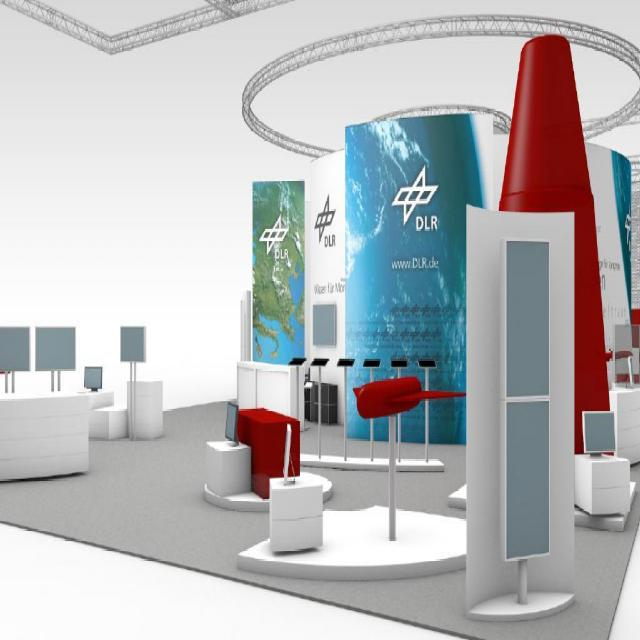table: (352, 374, 466, 545)
